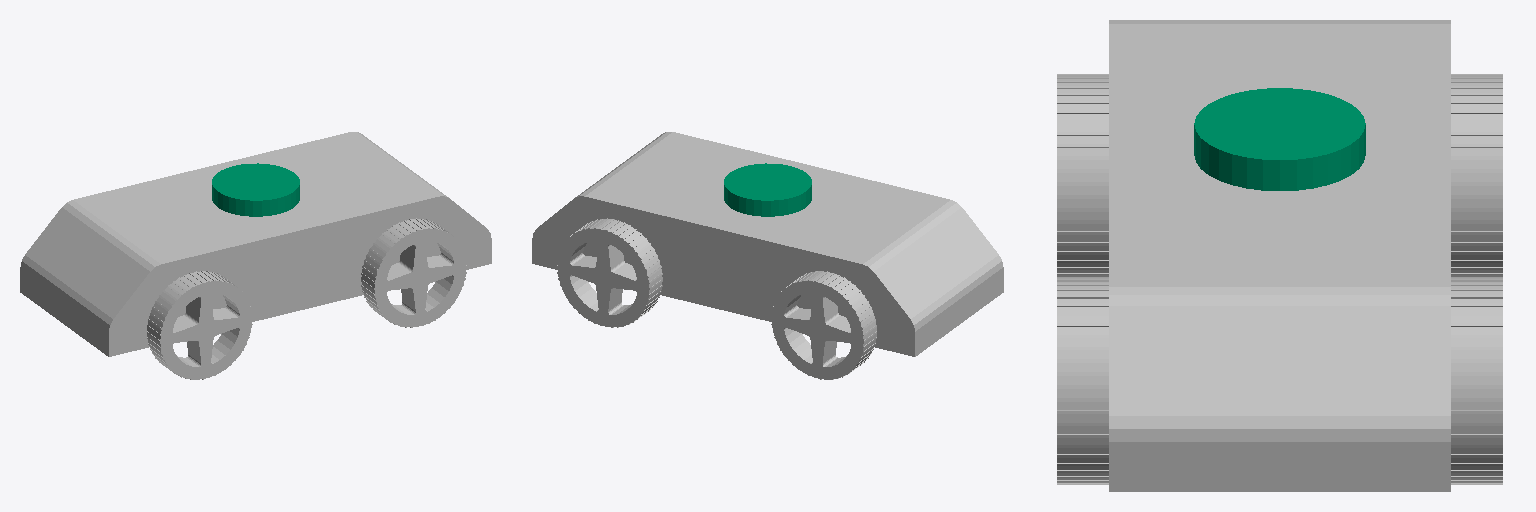
URDF robot description (rc_car):
<?xml version="1.0" ?>
<!-- =================================================================================== -->
<!-- |    This document was autogenerated by xacro from car_mapper.xacro               | -->
<!-- |    EDITING THIS FILE BY HAND IS NOT RECOMMENDED                                 | -->
<!-- =================================================================================== -->
<robot name="rc_car">
  <material name="orange">
    <color rgba="1 .64  0  1"/>
  </material>
  <material name="black">
    <color rgba="1 1 1 1"/>
  </material>
  <!-- Dummy link -->
  <link name="dummy">
 </link>
  <!-- Inertial Macro -->
  <!-- Chassis Link Definition -->
  <link name="chassis">
    <visual>
      <origin rpy="0 0 0" xyz="0 0 0.09075"/>
      <geometry>
        <mesh filename="package://rc_car/meshes/Chassis.dae"/>
      </geometry>
      <!--  <material name="orange"/>  Uncomment for Rviz -->
    </visual>
    <collision>
      <origin rpy="0 0 0" xyz="0 0 0.09075"/>
      <geometry>
        <mesh filename="package://rc_car/meshes/Chassis.dae"/>
      </geometry>
    </collision>
    <inertial>
      <mass value="1"/>
      <inertia ixx="0.00414500685" ixy="0.0" ixz="0.0" iyy="0.01911488783" iyz="0.0" izz="0.02164626315"/>
      <origin rpy="0 0 0" xyz="0 0 0.088381"/>
    </inertial>
  </link>
  <gazebo reference="chassis">
    <material>Gazebo/Orange</material>
  </gazebo>
  <!-- Dummy Joint -->
  <joint name="dummy_joint" type="fixed">
    <parent link="dummy"/>
    <child link="chassis"/>
  </joint>
  <!-- Wheel Definition -->
  <!-- Hokuyo Laser Scanner -->
  <link name="laser_link">
    <visual>
      <geometry>
        <cylinder length=".02" radius=".05"/>
      </geometry>
      <origin rpy="0 0 0" xyz="0 0 0 "/>
    </visual>
    <collision>
      <geometry>
        <cylinder length=".02" radius=".05"/>
      </geometry>
      <origin rpy="0 0 0" xyz="0 0 0"/>
    </collision>
    <inertial>
      <mass value=".00001"/>
      <origin rpy="0 0 0" xyz="0 0 0"/>
      <inertia ixx=".000001" ixy="0" ixz="0" iyy=".000001" iyz="0" izz=".000001"/>
    </inertial>
  </link>
  <joint name="laser_joint" type="fixed">
    <parent link="chassis"/>
    <child link="laser_link"/>
    <origin rpy="0 0 0" xyz="0 0 0.15075"/>
    <axis rpy="0 0 0" xyz="0 0 1"/>
  </joint>
  <gazebo reference="laser_link">
    <material>Gazebo/Grey</material>
  </gazebo>
  <!-- Calling Wheel Macro -->
  <link name="front_right_wheel">
    <visual>
      <geometry>
        <mesh filename="package://rc_car/meshes/Wheel.dae"/>
      </geometry>
      <origin rpy="0 0 1.5707963267948966 " xyz="0 0 0"/>
      <!--  <material name="black"/> Uncomment for Rviz -->
    </visual>
    <collision>
      <geometry>
        <mesh filename="package://rc_car/meshes/Wheel.dae"/>
      </geometry>
      <origin rpy="0 0 1.5707963267948966" xyz="0 0 0"/>
    </collision>
    <inertial>
      <mass value="0.2"/>
      <inertia ixx="0.0002243658" ixy="0.0" ixz="0.0" iyy="0.00041873192200000004" iyz="0.0" izz="0.0002243658"/>
    </inertial>
  </link>
  <joint name="front_right_wheel_to_chassis" type="continuous">
    <axis rpy="0 0 0" xyz="0 1 0"/>
    <parent link="chassis"/>
    <child link="front_right_wheel"/>
    <origin rpy="0 0 0" xyz="0.14 -0.115 0.06075"/>
  </joint>
  <gazebo reference="front_right_wheel">
    <material>Gazebo/Black</material>
  </gazebo>
  <link name="rear_right_wheel">
    <visual>
      <geometry>
        <mesh filename="package://rc_car/meshes/Wheel.dae"/>
      </geometry>
      <origin rpy="0 0 1.5707963267948966 " xyz="0 0 0"/>
      <!--  <material name="black"/> Uncomment for Rviz -->
    </visual>
    <collision>
      <geometry>
        <mesh filename="package://rc_car/meshes/Wheel.dae"/>
      </geometry>
      <origin rpy="0 0 1.5707963267948966" xyz="0 0 0"/>
    </collision>
    <inertial>
      <mass value="0.2"/>
      <inertia ixx="0.0002243658" ixy="0.0" ixz="0.0" iyy="0.00041873192200000004" iyz="0.0" izz="0.0002243658"/>
    </inertial>
  </link>
  <joint name="rear_right_wheel_to_chassis" type="continuous">
    <axis rpy="0 0 0" xyz="0 1 0"/>
    <parent link="chassis"/>
    <child link="rear_right_wheel"/>
    <origin rpy="0 0 0" xyz="-0.14 -0.115 0.06075"/>
  </joint>
  <gazebo reference="rear_right_wheel">
    <material>Gazebo/Black</material>
  </gazebo>
  <link name="front_left_wheel">
    <visual>
      <geometry>
        <mesh filename="package://rc_car/meshes/Wheel.dae"/>
      </geometry>
      <origin rpy="0 0 1.5707963267948966 " xyz="0 0 0"/>
      <!--  <material name="black"/> Uncomment for Rviz -->
    </visual>
    <collision>
      <geometry>
        <mesh filename="package://rc_car/meshes/Wheel.dae"/>
      </geometry>
      <origin rpy="0 0 1.5707963267948966" xyz="0 0 0"/>
    </collision>
    <inertial>
      <mass value="0.2"/>
      <inertia ixx="0.0002243658" ixy="0.0" ixz="0.0" iyy="0.00041873192200000004" iyz="0.0" izz="0.0002243658"/>
    </inertial>
  </link>
  <joint name="front_left_wheel_to_chassis" type="continuous">
    <axis rpy="0 0 0" xyz="0 1 0"/>
    <parent link="chassis"/>
    <child link="front_left_wheel"/>
    <origin rpy="0 0 0" xyz="0.14 0.115 0.06075"/>
  </joint>
  <gazebo reference="front_left_wheel">
    <material>Gazebo/Black</material>
  </gazebo>
  <link name="rear_left_wheel">
    <visual>
      <geometry>
        <mesh filename="package://rc_car/meshes/Wheel.dae"/>
      </geometry>
      <origin rpy="0 0 1.5707963267948966 " xyz="0 0 0"/>
      <!--  <material name="black"/> Uncomment for Rviz -->
    </visual>
    <collision>
      <geometry>
        <mesh filename="package://rc_car/meshes/Wheel.dae"/>
      </geometry>
      <origin rpy="0 0 1.5707963267948966" xyz="0 0 0"/>
    </collision>
    <inertial>
      <mass value="0.2"/>
      <inertia ixx="0.0002243658" ixy="0.0" ixz="0.0" iyy="0.00041873192200000004" iyz="0.0" izz="0.0002243658"/>
    </inertial>
  </link>
  <joint name="rear_left_wheel_to_chassis" type="continuous">
    <axis rpy="0 0 0" xyz="0 1 0"/>
    <parent link="chassis"/>
    <child link="rear_left_wheel"/>
    <origin rpy="0 0 0" xyz="-0.14 0.115 0.06075"/>
  </joint>
  <gazebo reference="rear_left_wheel">
    <material>Gazebo/Black</material>
  </gazebo>
  <!-- Differential drive plugin 

 <gazebo>
  <plugin name="differential_drive_controller" filename="libgazebo_ros_diff_drive.so">
    <leftJoint>rear_left_wheel_to_chassis</leftJoint>
    <rightJoint>rear_right_wheel_to_chassis</rightJoint>
    <robotBaseFrame>chassis</robotBaseFrame>
    <wheelSeparation>${ch_w}</wheelSeparation>
    <wheelDiameter>${wheel_dia}</wheelDiameter>
    <commandTopic>cmd_vel</commandTopic>
    <odometryTopic>odom</odometryTopic>
    <odometryFrame>odom</odometryFrame>
    <publishWheelJointState>false</publishWheelJointState>
    <alwaysOn>true</alwaysOn>
    <legacyMode>false</legacyMode>
    <updateRate>40</updateRate>
    <wheelTorque>5</wheelTorque>
    <odometrySource>world</odometrySource>
    <publishWheelTF>false</publishWheelTF>
    <wheelAcceleration>0</wheelAcceleration>
    <rosDebugLevel>na</rosDebugLevel>
    <publishOdomTF>true</publishOdomTF>
    <publishTf>true</publishTf>
  </plugin>
 </gazebo>

-->
  <!-- Skid Steer plugin -->
  <gazebo>
    <plugin filename="libgazebo_ros_skid_steer_drive.so" name="skid_steer_drive_controller">
      <updateRate>100.0</updateRate>
      <robotNamespace>/</robotNamespace>
      <commandTopic>cmd_vel</commandTopic>
      <leftFrontJoint>front_left_wheel_to_chassis</leftFrontJoint>
      <rightFrontJoint>front_right_wheel_to_chassis</rightFrontJoint>
      <leftRearJoint>rear_left_wheel_to_chassis</leftRearJoint>
      <rightRearJoint>rear_right_wheel_to_chassis</rightRearJoint>
      <wheelSeparation>0.2</wheelSeparation>
      <wheelDiameter>0.1215</wheelDiameter>
      <robotBaseFrame>chassis</robotBaseFrame>
      <torque>5</torque>
      <odometryFrame>odom</odometryFrame>
      <odometryTopic>odom</odometryTopic>
      <topicName>cmd_vel</topicName>
      <broadcastTF>true</broadcastTF>
      <covariance_yaw>0.01</covariance_yaw>
      <covariance_y>0.0001</covariance_y>
      <covariance_x>0.0001</covariance_x>
    </plugin>
  </gazebo>
  <!-- Joint State Publisher -->
  <gazebo>
    <plugin filename="libgazebo_ros_joint_state_publisher.so" name="joint_state_publisher">
      <jointName>front_right_wheel_to_chassis,front_left_wheel_to_chassis,rear_right_wheel_to_chassis,rear_left_wheel_to_chassis</jointName>
      <updateRate>100</updateRate>
    </plugin>
  </gazebo>
  <!-- Laser Scanner definition -->
  <gazebo reference="laser_link">
    <sensor name="hokuyo" type="gpu_ray">
      <pose>0 0 0 0 0 0</pose>
      <visualize>true</visualize>
      <update_rate>40</update_rate>
      <ray>
        <scan>
          <horizontal>
            <samples>720</samples>
            <resolution>1</resolution>
            <min_angle>-1.570796</min_angle>
            <max_angle>1.570796</max_angle>
          </horizontal>
        </scan>
        <range>
          <min>0.10</min>
          <max>30.0</max>
          <resolution>0.01</resolution>
        </range>
      </ray>
      <plugin filename="libgazebo_ros_gpu_laser.so" name="gpu_laser">
        <topicName>/scan</topicName>
        <frameName>laser_link</frameName>
      </plugin>
    </sensor>
  </gazebo>
</robot>

--- Facts derived from the render (not from the file) ---
Views: 3 orthographic renders of the robot side by side, from view 1: azimuth 30°, elevation 25°; view 2: azimuth 150°, elevation 25°; view 3: azimuth 270°, elevation 25°.
Robot: rc_car — 7 links, 6 joints (4 continuous, 2 fixed); root link dummy; default pose: all joints at 0.
Links seen in each view (by area): view 1: chassis, front_right_wheel, rear_right_wheel, laser_link; view 2: chassis, front_left_wheel, rear_left_wheel, laser_link; view 3: chassis, laser_link, front_right_wheel, front_left_wheel, rear_right_wheel, rear_left_wheel.
Link boxes in pixels (left/top/right/bottom): chassis: left=20, top=132, right=491, bottom=356; front_right_wheel: left=361, top=218, right=466, bottom=327; rear_right_wheel: left=147, top=271, right=252, bottom=379; laser_link: left=212, top=163, right=299, bottom=216; chassis: left=532, top=132, right=1003, bottom=356; front_left_wheel: left=557, top=218, right=662, bottom=327; rear_left_wheel: left=771, top=271, right=876, bottom=379; laser_link: left=724, top=163, right=811, bottom=216; chassis: left=1109, top=20, right=1450, bottom=491; laser_link: left=1194, top=88, right=1365, bottom=190; front_right_wheel: left=1057, top=277, right=1108, bottom=484; front_left_wheel: left=1451, top=277, right=1502, bottom=484; rear_right_wheel: left=1057, top=74, right=1108, bottom=276; rear_left_wheel: left=1451, top=74, right=1502, bottom=276.
Bounding box of the posed robot: 0.5 × 0.26 × 0.1607 m (x, y, z).
5 mesh visuals loaded from 2 distinct referenced files (2 Collada DAE).